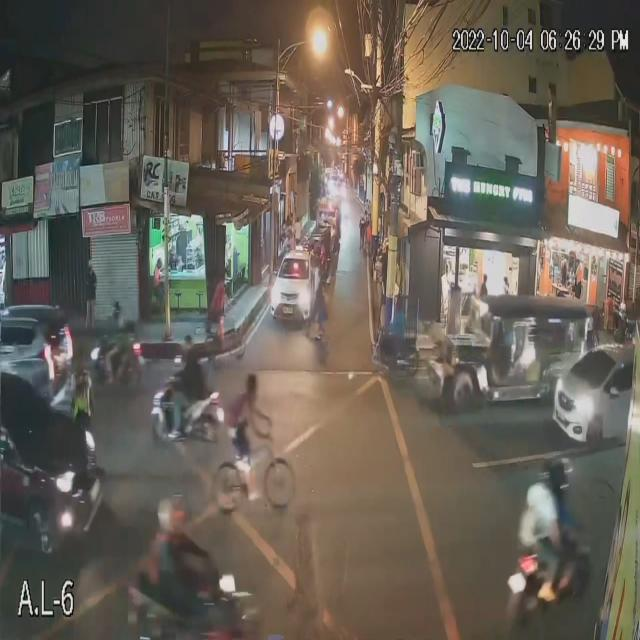Full-Faced: (156, 490, 194, 540)
